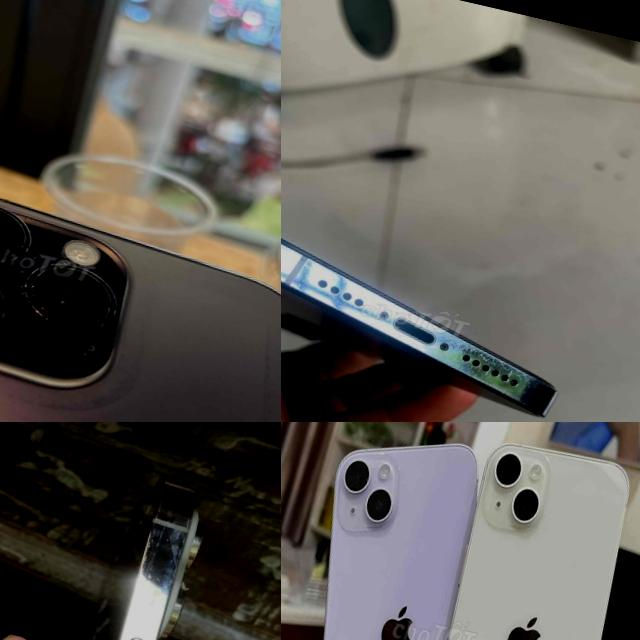scratch: (281, 202, 567, 413), (110, 499, 200, 631), (196, 284, 281, 422), (21, 346, 153, 422)
